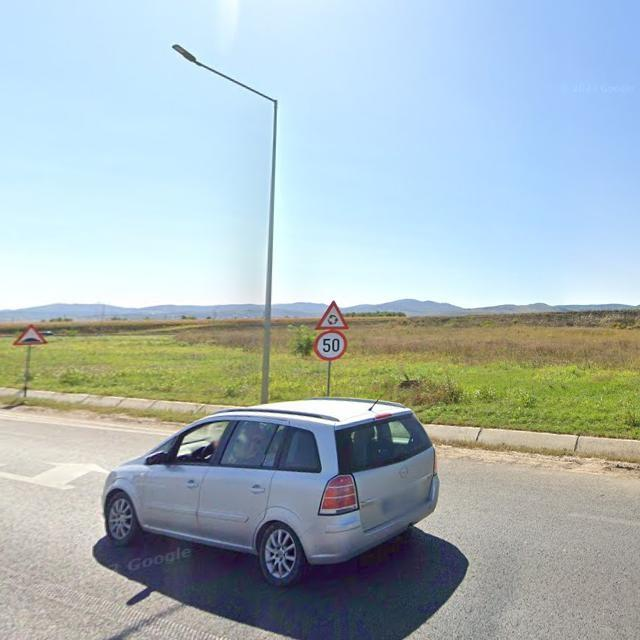forb_speed_over_50: (313, 330, 348, 362)
